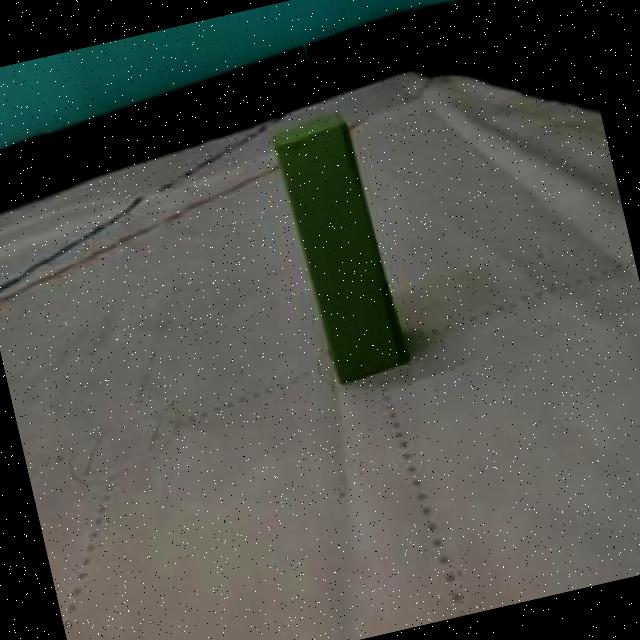greenbox: (259, 98, 416, 391)
